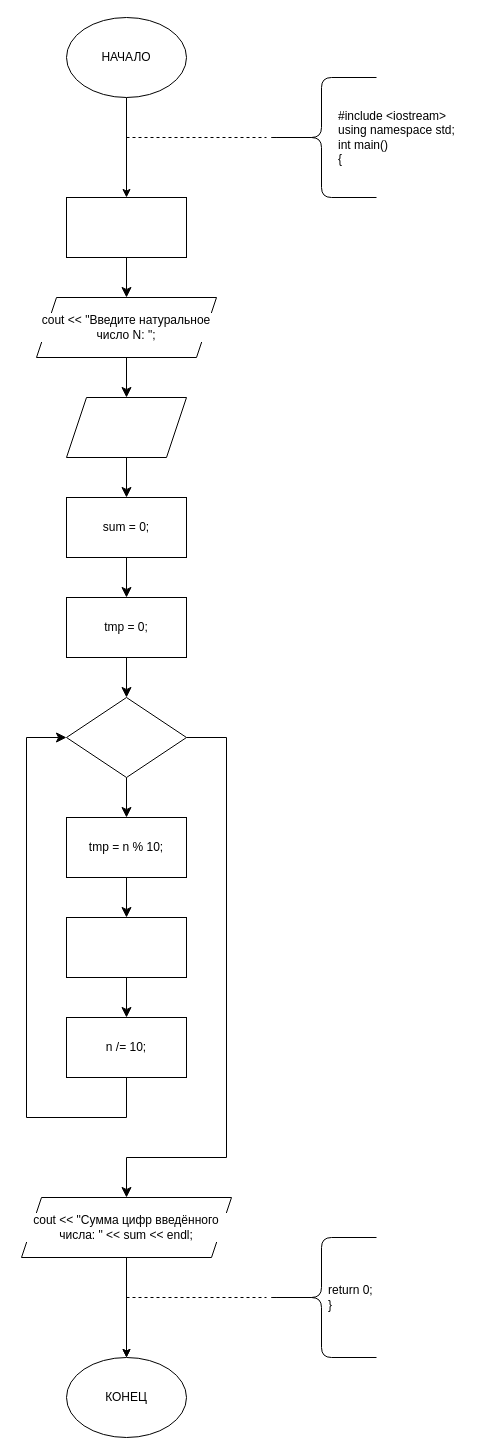
Some shapes in this 504 by 1455 pixel diagram are drawn without their labels. Here are the shapes that lost their labels. From the top down, the centre of each, then its label:
[126,227]: int n, sum, tmp;
[126,427]: cin >> n;
[126,737]: while (n != 0)
[126,947]: sum += tmp;
